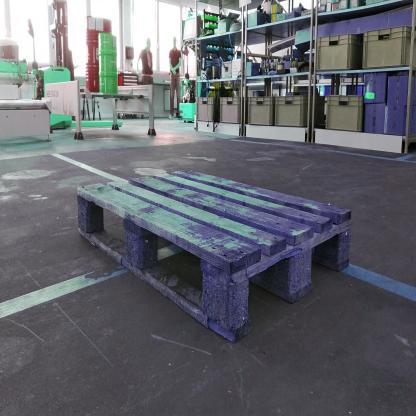BoxFace: (74, 163, 352, 350)
